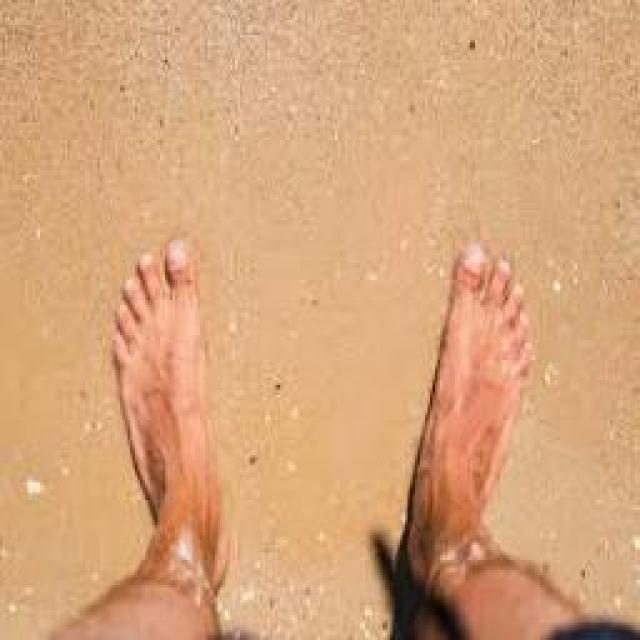Barefoots: (88, 214, 246, 586), (402, 224, 538, 601)
